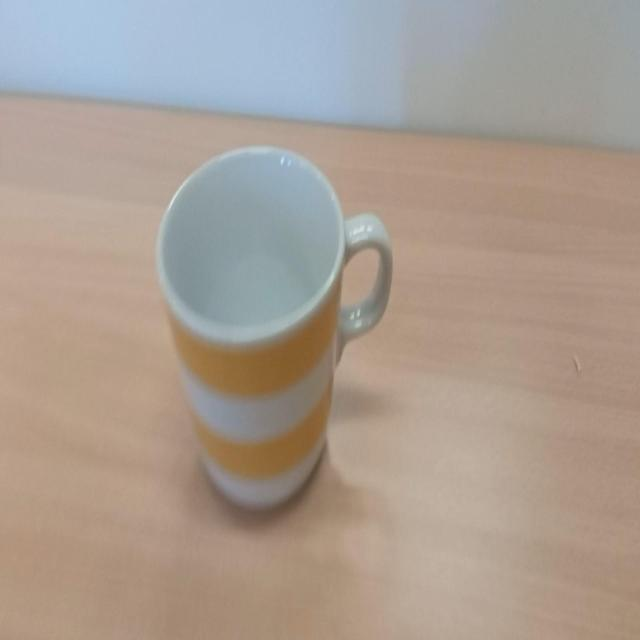cup: (153, 140, 398, 520)
